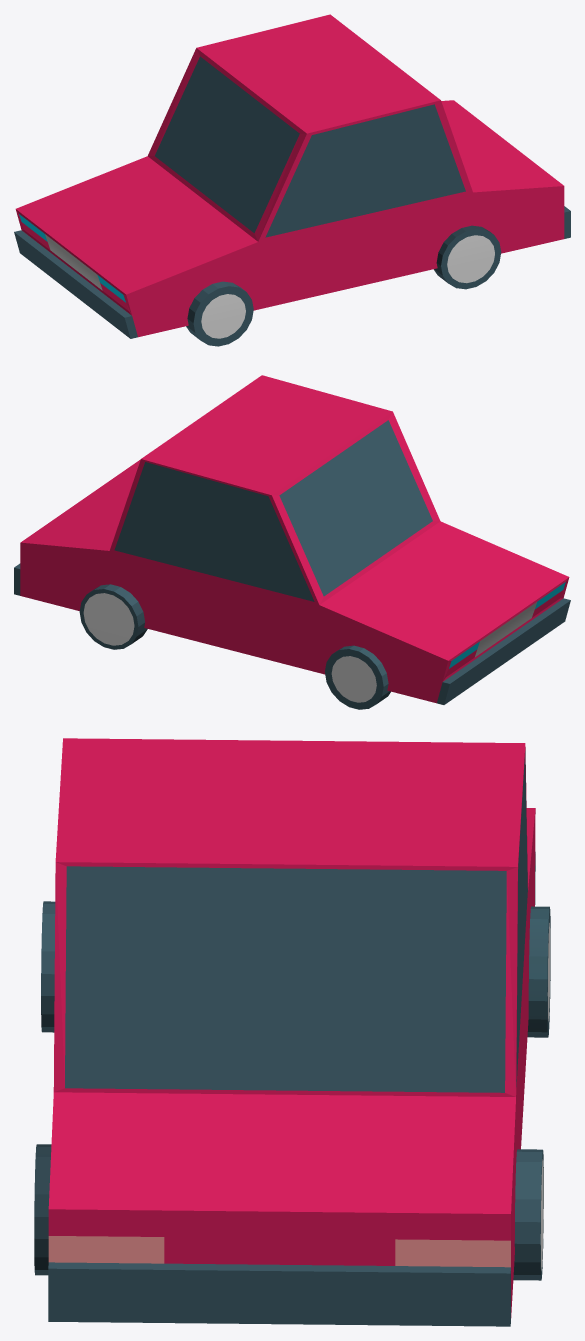
3 views of the same model, one above another, from view 1: azimuth 30°, elevation 25°; view 2: azimuth 150°, elevation 25°; view 3: azimuth 270°, elevation 25° (orthographic). The views are drawn at different scales.
Visible parts, largest first — view 1: Car_04_1_2; view 2: Car_04_1_2; view 3: Car_04_1_2.
Boxes of the visible parts, x1,y1,x2,y2 form: Car_04_1_2: (14,14,570,346); Car_04_1_2: (14,375,570,709); Car_04_1_2: (34,738,550,1326).
Size of the model in its own units: 537 by 219 by 270.
